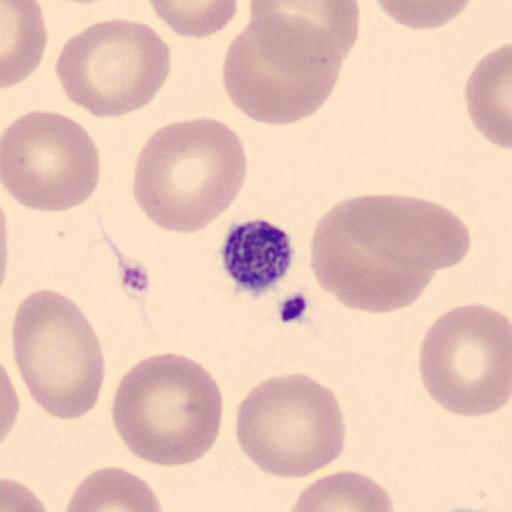Platelet: (218, 216, 297, 298)
RBC: (308, 192, 444, 316), (132, 114, 250, 236), (110, 350, 226, 469), (220, 15, 343, 126), (11, 286, 106, 422), (234, 370, 348, 480), (54, 16, 172, 119), (418, 301, 512, 420), (0, 108, 102, 214), (368, 192, 473, 274), (252, 0, 361, 62), (398, 196, 472, 271), (463, 40, 512, 152), (62, 465, 166, 512), (286, 468, 397, 512), (1, 0, 49, 90), (147, 0, 240, 41), (371, 0, 474, 31), (2, 475, 52, 512), (2, 362, 22, 445), (434, 503, 502, 512)
